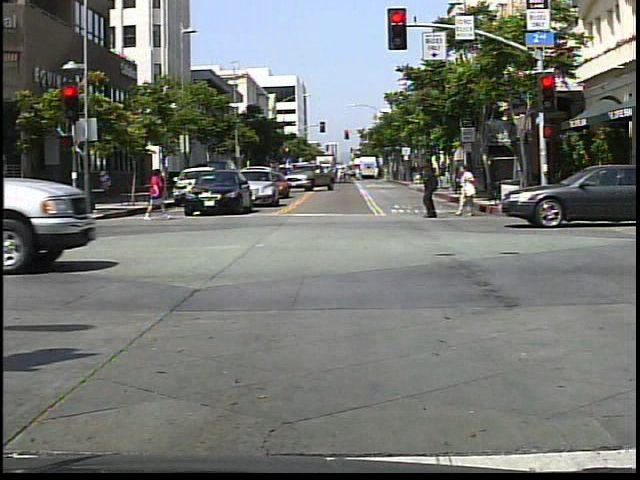person: (139, 165, 172, 225), (419, 156, 444, 221), (456, 160, 481, 221)
